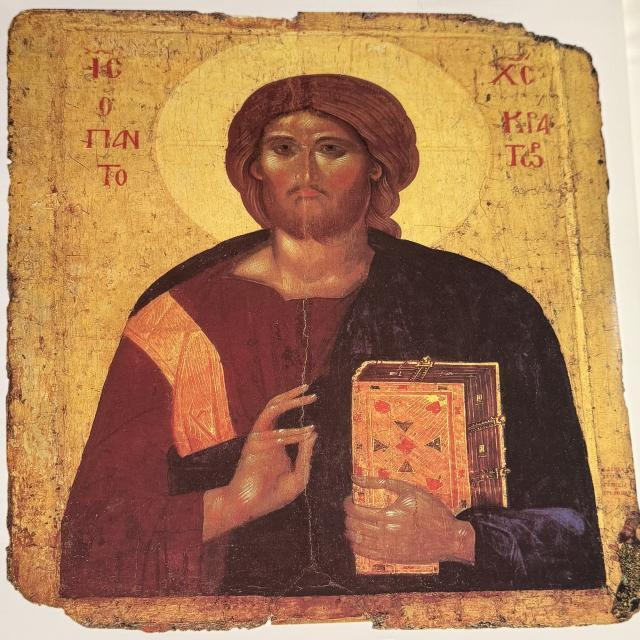aura: (152, 29, 493, 253)
book: (353, 357, 525, 577)
christ: (64, 23, 604, 589)
christ_hand: (200, 382, 331, 533)
